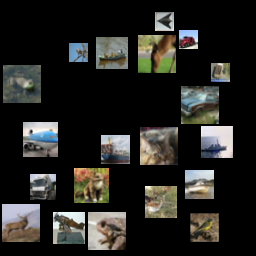airplane: (23, 122, 58, 157), (53, 212, 85, 244), (155, 12, 174, 31)
automobile: (181, 86, 219, 124)
bird: (190, 213, 219, 242), (69, 43, 88, 62)
cat: (140, 127, 178, 165), (74, 168, 109, 203)
deer: (2, 204, 40, 242), (138, 35, 176, 73), (145, 186, 177, 218)
frog: (3, 65, 41, 103), (88, 212, 126, 250)
ship: (201, 126, 233, 158), (96, 37, 128, 69), (101, 135, 130, 164), (185, 170, 214, 199)
